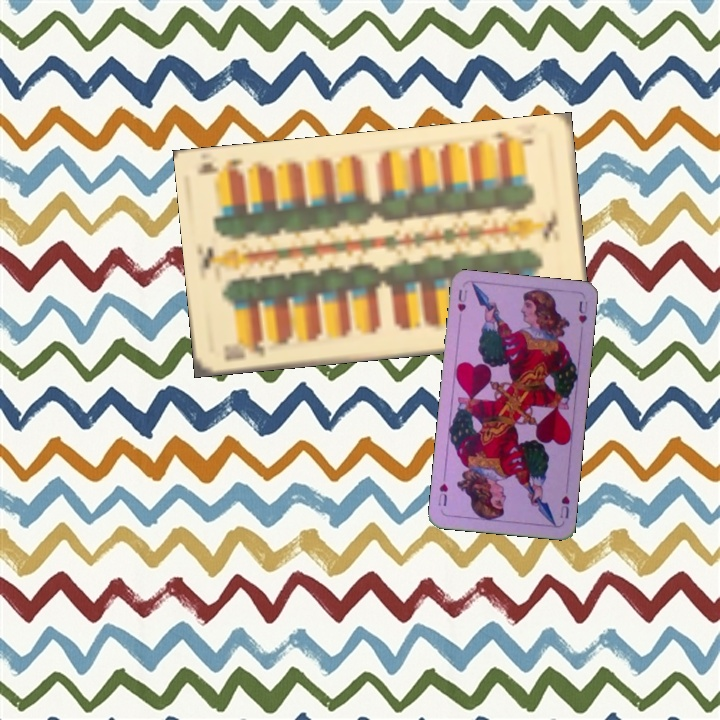E10: (221, 335, 267, 363), (487, 127, 536, 148)
HU: (453, 285, 470, 325), (556, 492, 572, 521)
